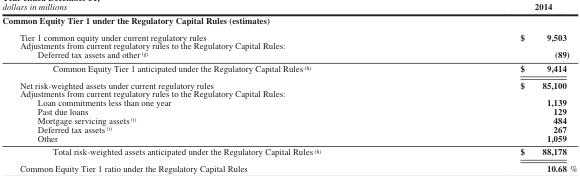table: (1, 1, 576, 172)
table column: (1, 1, 419, 172), (419, 1, 576, 172)
table column header: (1, 1, 576, 13)
table projected row header: (1, 13, 576, 28), (1, 40, 576, 49), (1, 88, 576, 97)
table row: (1, 13, 576, 28), (1, 61, 576, 76), (1, 144, 576, 159), (1, 159, 576, 172), (1, 1, 576, 13), (1, 28, 576, 40), (1, 49, 576, 61), (1, 76, 576, 88), (1, 133, 576, 144), (1, 40, 576, 49), (1, 88, 576, 97), (1, 97, 576, 106), (1, 106, 576, 115), (1, 115, 576, 124), (1, 124, 576, 133)
